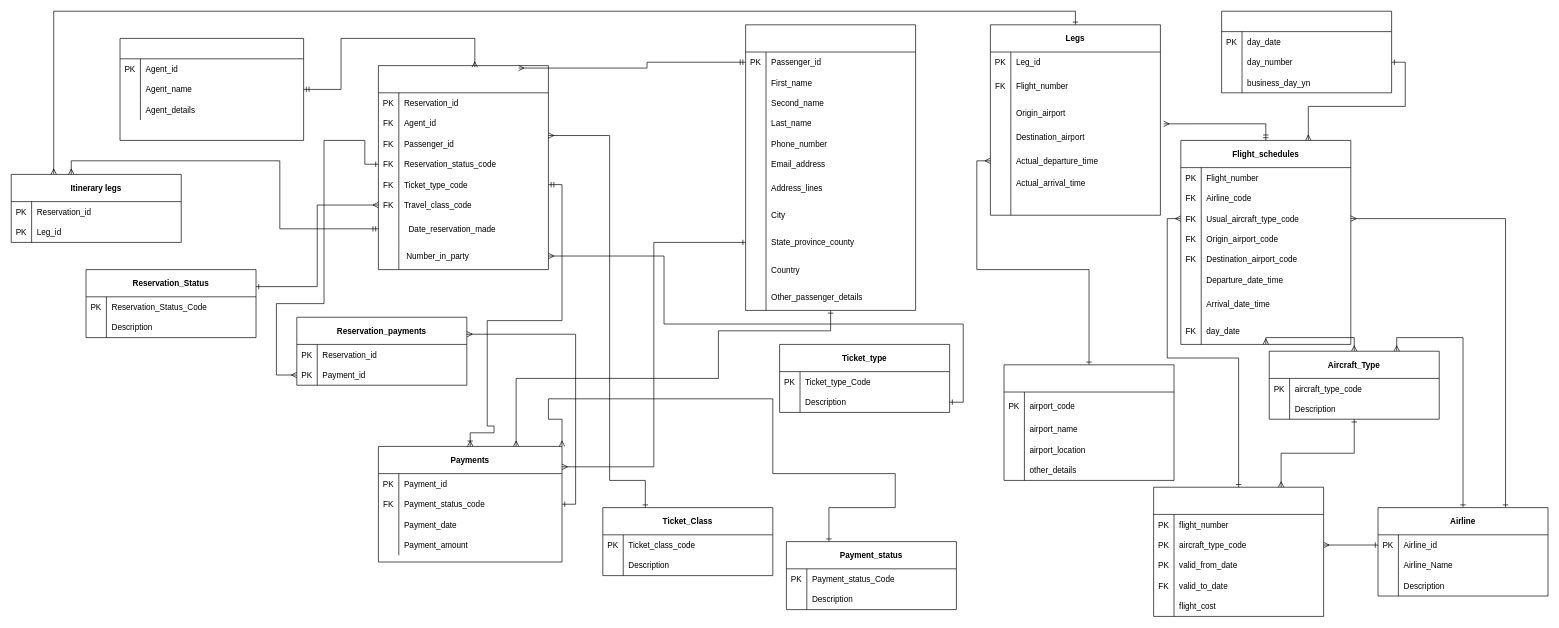
The diagram is 1559 pixels wide and 628 high, and some of its shapes have lost their labels. The box of each missing label's shape, as (x1, y1, x2, y2) in pixels:
airports: (1003, 364, 1174, 480)
Booking_agents: (119, 38, 304, 140)
flight_costs: (1153, 487, 1324, 616)
Itinerary_reservations: (378, 65, 548, 270)
Passengers: (745, 24, 916, 310)
ref_calendar: (1221, 11, 1392, 93)
